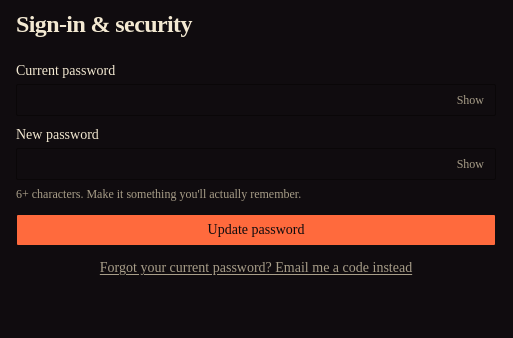
Test case: SecurityForm › shows error message on auth_current_password_incorrect
Type "wrongpass" into the password field labelled "Current password".
click(256, 100); type("wrongpass")  # box [16, 84, 496, 116]
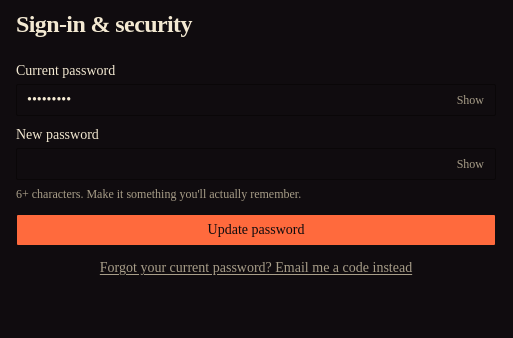
Type "mynewpass123" into the password field labelled "New password".
click(256, 164); type("mynewpass123")  # box [16, 148, 496, 180]
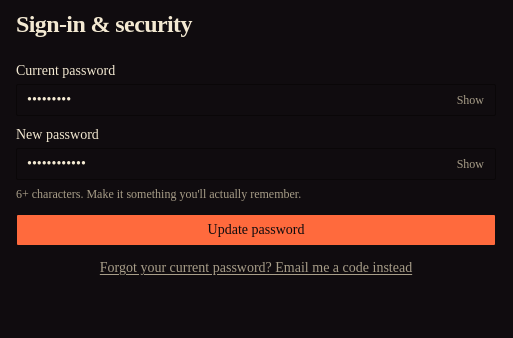
Click the button "Update password".
click(256, 230)  # box [16, 214, 496, 246]
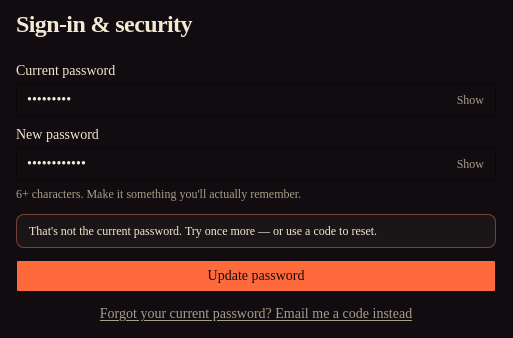
Expected: the button "Update password" is enabled, [16, 260, 496, 292]
Expected: the text "That's not the current password. Try once more — or use a code to reset." is shown, [16, 214, 496, 248]
